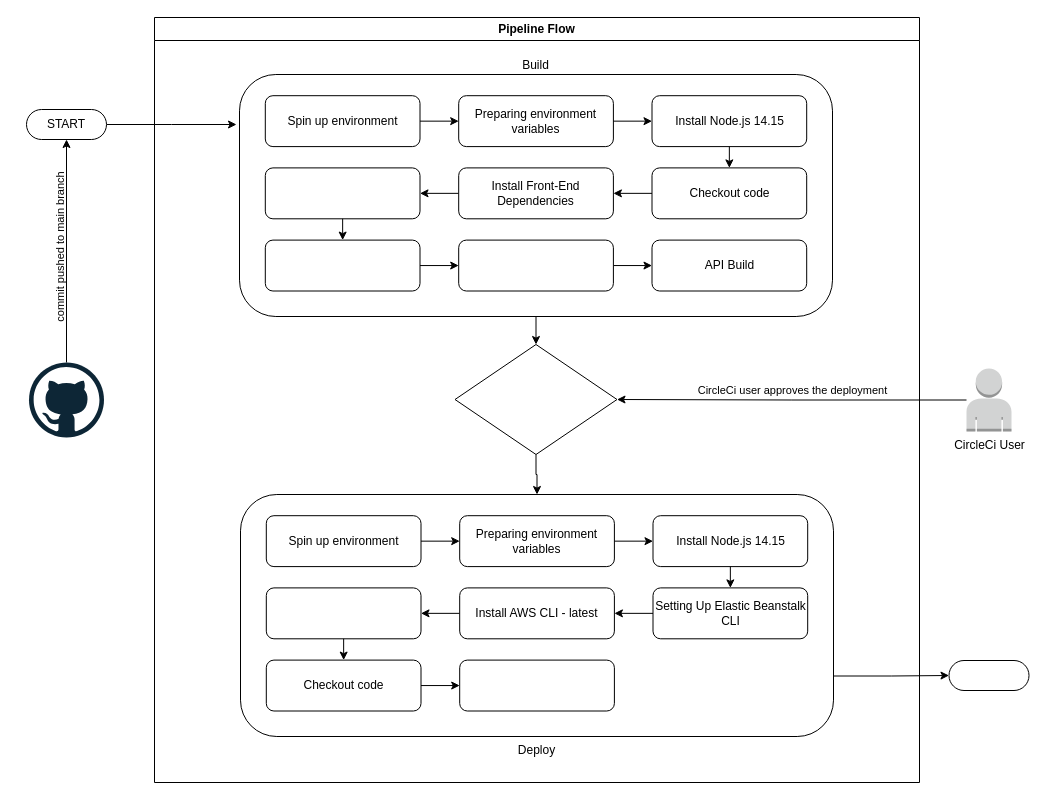
The diagram is 1047 pixels wide and 800 high, and some of its shapes have lost their labels. Each missing label, with the box of its shape:
Configure AWS Access Key ID: (265, 587, 421, 639)
Deploy App: (459, 659, 614, 711)
END: (948, 660, 1029, 690)
Front-End Build: (458, 239, 613, 291)
Front-End Lint: (264, 239, 420, 291)
GitHub Repository: (28, 362, 104, 438)
Hold for Manual Approval: (454, 344, 617, 454)
Install API Dependencies: (264, 167, 420, 219)
